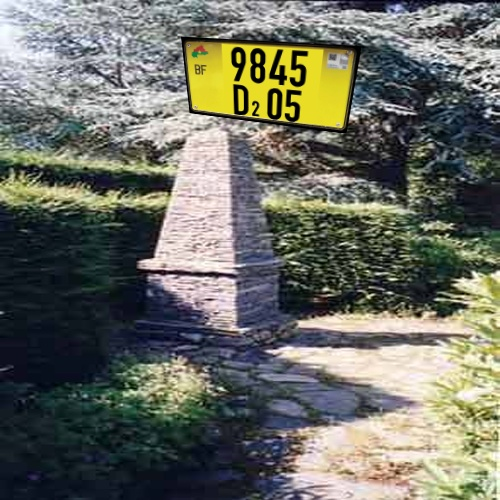plate: (168, 22, 368, 154)
